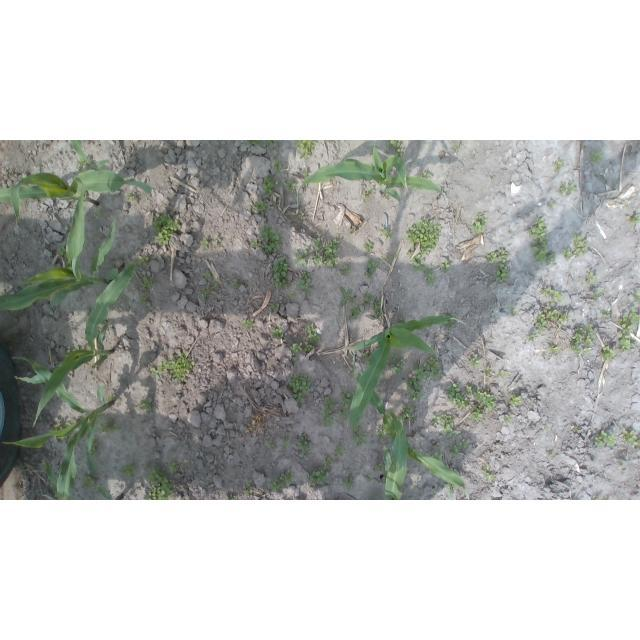Maize: (15, 262, 138, 431), (352, 354, 469, 500), (1, 354, 116, 500), (1, 182, 120, 311), (345, 313, 467, 430), (1, 159, 154, 225), (296, 144, 447, 209), (41, 456, 124, 500), (381, 412, 408, 500), (66, 141, 104, 170)
Weeds: (149, 350, 196, 383), (405, 218, 443, 256), (526, 217, 556, 265), (616, 306, 640, 353), (310, 235, 341, 270), (144, 468, 176, 501), (152, 211, 181, 246), (404, 364, 430, 400), (571, 323, 596, 356), (431, 413, 461, 440), (445, 383, 473, 410), (287, 373, 311, 404), (260, 223, 282, 253), (273, 256, 291, 290), (269, 469, 294, 492), (473, 388, 495, 410), (322, 396, 337, 428), (594, 430, 619, 448), (423, 358, 442, 381), (546, 306, 573, 322), (337, 393, 353, 419), (572, 233, 589, 257), (622, 427, 640, 449), (541, 288, 564, 305), (390, 355, 407, 378), (296, 271, 312, 294), (296, 141, 315, 160), (470, 213, 488, 233), (309, 466, 329, 484), (305, 322, 322, 343), (352, 426, 369, 446), (339, 286, 355, 307), (249, 199, 268, 216), (363, 260, 380, 279), (486, 249, 509, 263), (296, 433, 312, 453), (294, 247, 309, 268), (263, 177, 280, 195), (398, 405, 414, 424), (494, 263, 510, 282), (101, 418, 120, 434), (410, 253, 426, 272), (535, 311, 548, 334), (557, 182, 577, 196), (290, 342, 303, 363), (600, 346, 618, 361), (198, 283, 212, 301), (137, 397, 153, 412), (424, 265, 436, 285), (444, 482, 458, 499), (443, 314, 458, 329), (122, 463, 137, 478), (467, 354, 483, 368), (81, 475, 96, 489), (375, 425, 389, 439), (471, 407, 485, 421), (270, 325, 283, 340), (588, 150, 604, 162), (240, 317, 256, 329), (586, 272, 599, 286), (126, 190, 139, 204), (379, 226, 393, 239), (342, 477, 355, 491), (349, 305, 361, 320), (91, 441, 101, 458), (284, 181, 297, 194), (508, 394, 522, 406), (626, 214, 640, 226), (76, 156, 88, 170), (374, 299, 383, 317), (243, 479, 253, 495), (167, 460, 179, 473), (200, 238, 212, 251), (141, 276, 154, 288), (552, 160, 564, 172), (365, 294, 376, 307), (273, 159, 283, 173), (440, 259, 450, 273), (17, 456, 26, 471), (561, 248, 572, 260), (446, 445, 458, 456), (136, 256, 148, 267), (363, 188, 374, 200), (430, 452, 443, 462), (483, 471, 496, 481), (322, 456, 335, 466), (419, 170, 433, 179), (334, 445, 344, 457), (374, 461, 386, 471), (459, 438, 469, 450), (527, 331, 539, 341), (388, 140, 403, 148), (138, 293, 148, 305), (341, 265, 353, 275), (601, 309, 612, 319), (267, 441, 277, 452), (497, 370, 509, 379), (267, 302, 279, 311), (58, 245, 67, 257), (590, 290, 603, 298), (632, 290, 640, 303), (303, 342, 313, 352), (202, 269, 212, 279), (281, 439, 292, 448), (364, 240, 372, 252), (503, 415, 513, 424), (394, 149, 404, 158), (288, 291, 298, 300), (549, 346, 560, 354), (94, 207, 102, 218), (245, 140, 262, 145), (265, 140, 279, 146), (251, 239, 261, 247), (213, 235, 221, 245), (54, 420, 62, 430), (484, 366, 492, 375), (510, 306, 518, 315), (230, 279, 238, 288), (298, 211, 306, 220), (362, 351, 370, 360), (365, 474, 373, 482), (548, 200, 556, 208), (618, 458, 626, 466), (62, 349, 70, 357), (212, 278, 219, 287), (303, 168, 310, 177), (381, 255, 391, 261), (482, 464, 490, 471), (349, 226, 356, 234), (226, 494, 235, 500), (573, 428, 583, 433), (545, 423, 552, 430), (65, 421, 72, 428), (431, 490, 437, 497), (399, 317, 406, 323), (454, 143, 460, 149), (592, 497, 604, 500), (393, 252, 399, 258), (383, 194, 390, 199), (547, 453, 554, 458), (414, 187, 420, 192), (74, 346, 80, 351), (365, 362, 371, 367), (73, 430, 78, 434), (8, 171, 13, 174), (245, 283, 248, 287)
